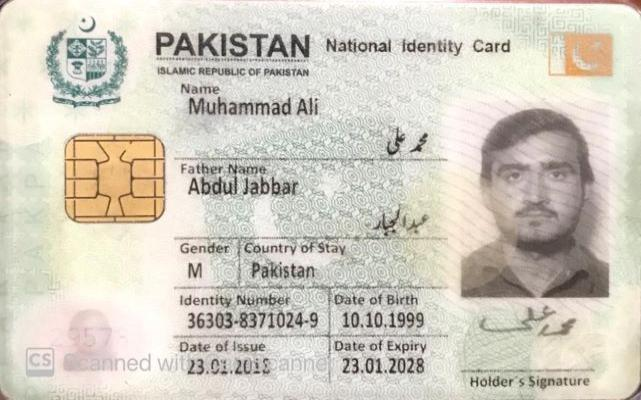fname: (182, 172, 301, 200)
name: (185, 94, 322, 120)
number: (183, 309, 321, 332)
